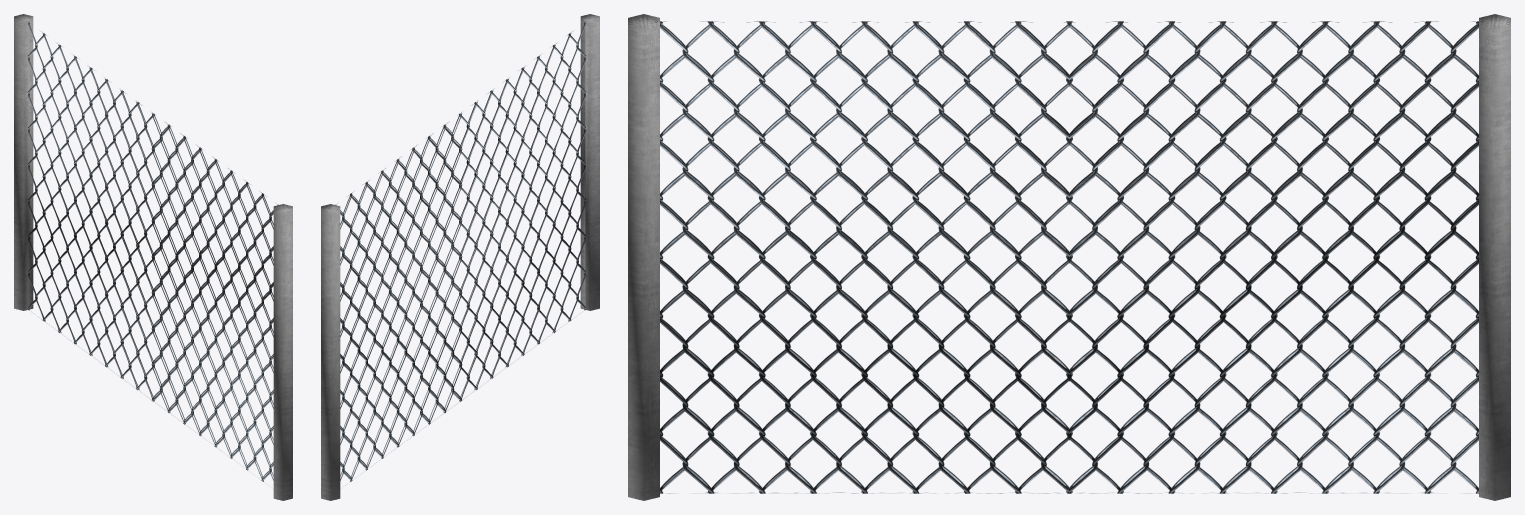
The model's file is fence.glb.
3 views of the same model, side by side, from view 1: azimuth 30°, elevation 25°; view 2: azimuth 150°, elevation 25°; view 3: azimuth 270°, elevation 25° (orthographic). The views are drawn at different scales.
Parts seen in each view (by area): view 1: Cube; view 2: Cube; view 3: Cube.
Part boxes in pixels (x1,y1,x2,y2): Cube: [14, 14, 292, 500]; Cube: [321, 14, 599, 500]; Cube: [628, 14, 1510, 500].
Bounding box in the file's own units: 0.1413 × 2 × 3.39.
2 materials, 2 textured.
